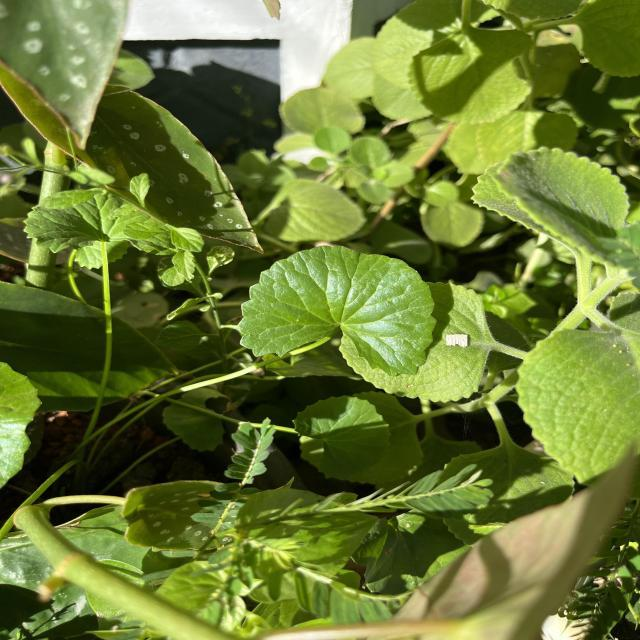Centella asiatica: (236, 241, 442, 380)
